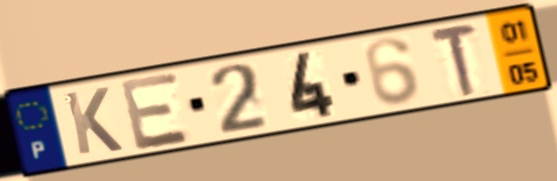2: (207, 61, 271, 138)
4: (287, 48, 339, 121)
6: (361, 35, 424, 108)
E: (116, 69, 195, 153)
K: (60, 84, 126, 158)
T: (426, 21, 482, 99)
